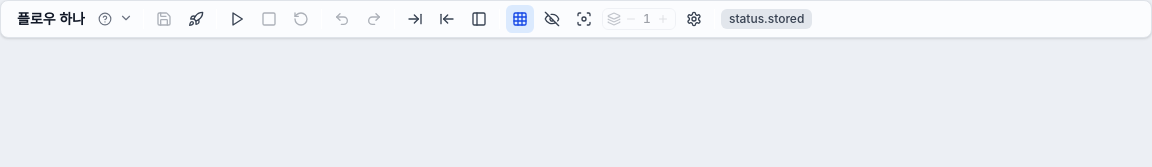
EditorToolbar - 플로우 타이틀 / 전환 선택기 › 전환 버튼 클릭 시 전체 플로우 목록을 표시한다
The width and height of the screenshot is (1152, 167).
Expected: the text "플로우 둘" is not shown
Click the button named "editor.switcher.switchTo" at (126, 18), box [115,7,137,29]
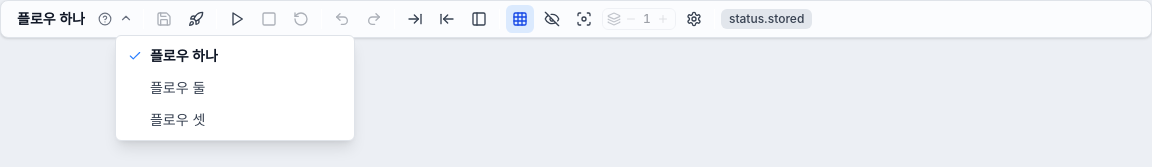
Expected: the list named "editor.switcher.listLabel" is shown, [115,35,355,141]
Expected: the option "플로우 둘" is shown, [116,72,354,104]
Expected: the option "플로우 셋" is shown, [116,104,354,136]
